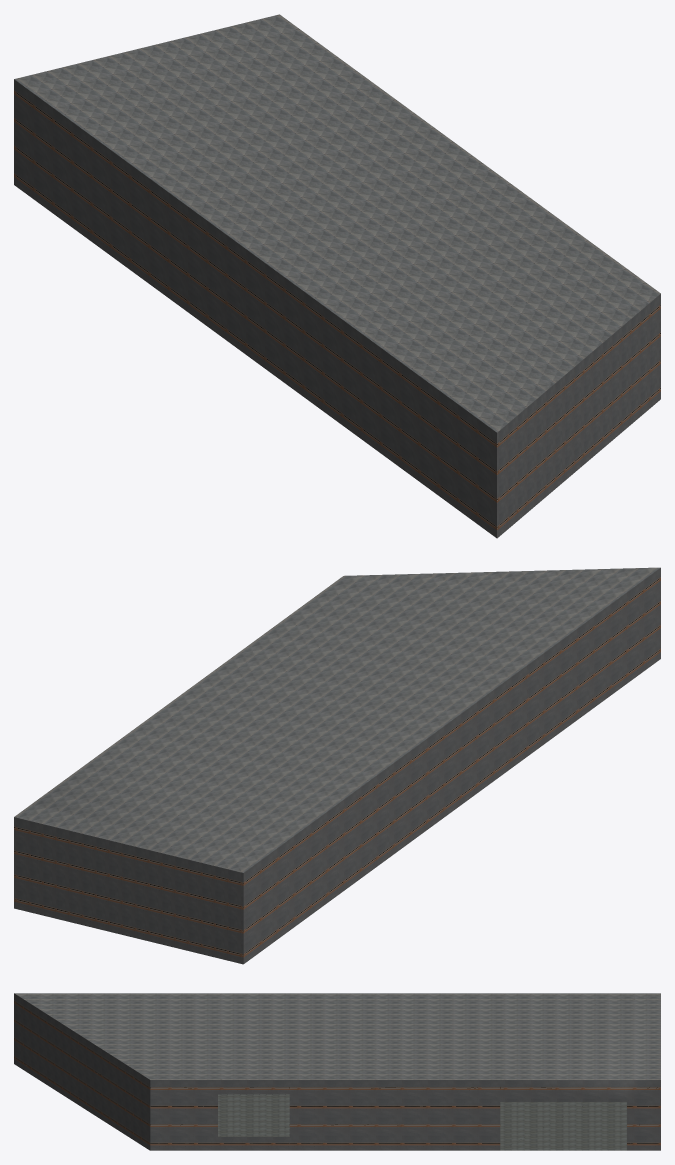
The model's file is north_new.FBX.
3 views of the same model, one above another, from view 1: azimuth 30°, elevation 25°; view 2: azimuth 150°, elevation 25°; view 3: azimuth 270°, elevation 25° (orthographic). The views are drawn at different scales.
Parts seen in each view (by area): view 1: North_Section; view 2: North_Section; view 3: North_Section.
Part boxes in pixels (x1,y1,x2,y2): North_Section: (14,14,660,538); North_Section: (14,567,660,964); North_Section: (14,993,660,1150).
Size of the model in its own units: 287 by 109 by 903.
